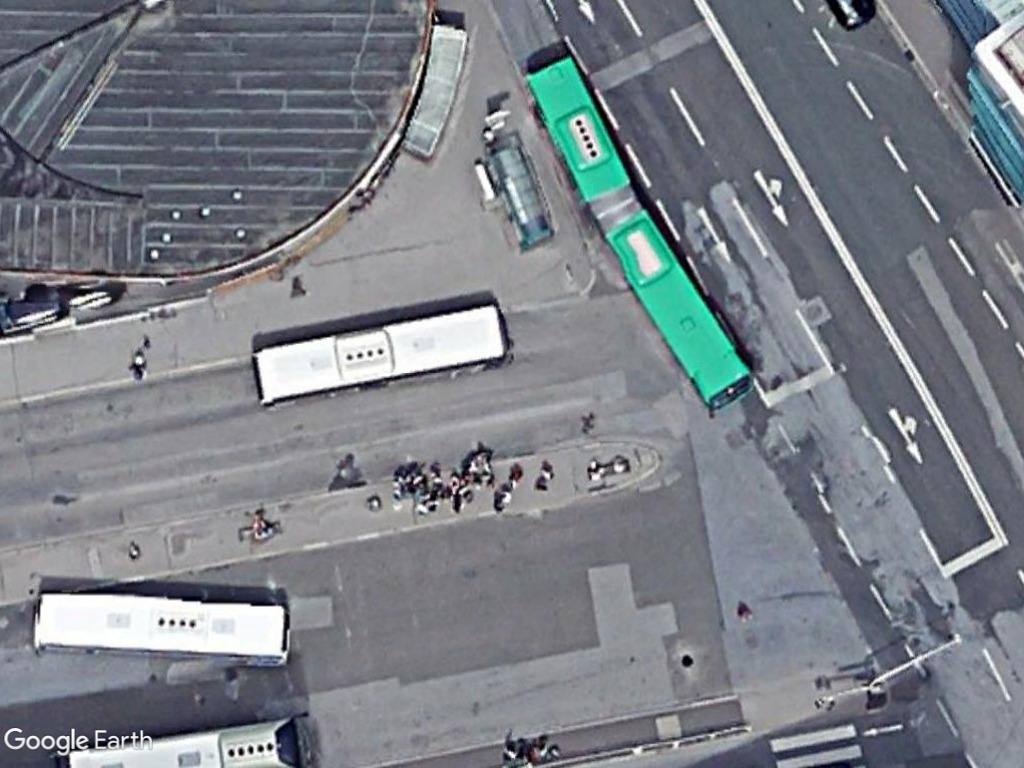bus: (595, 204, 754, 414), (245, 296, 517, 413), (23, 589, 299, 671), (518, 46, 636, 207)
